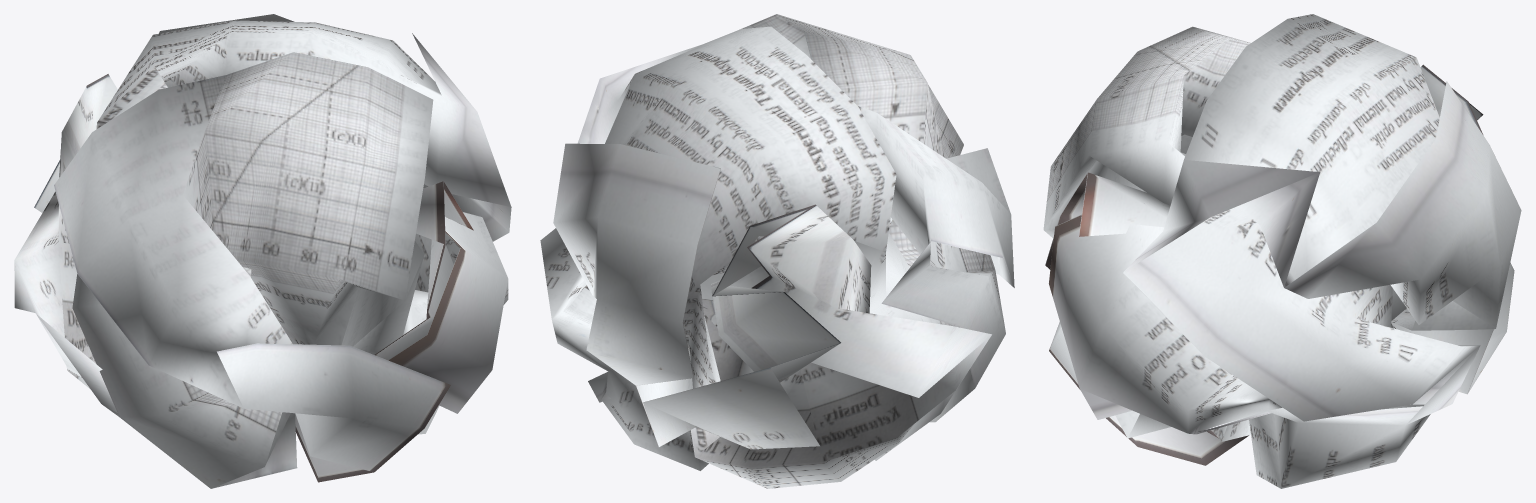
The model's file is crumpledPaper.fbx.
3 renders of one model, left to right at view 1: azimuth 30°, elevation 25°; view 2: azimuth 150°, elevation 25°; view 3: azimuth 270°, elevation 25°, orthographic. The views are drawn at different scales.
Visible parts, largest first — view 1: Plane; view 2: Plane; view 3: Plane.
Part boxes in pixels (x1,y1,x2,y2): Plane: (14, 14, 511, 488); Plane: (540, 14, 1014, 488); Plane: (1043, 14, 1521, 488).
Bounding box in the file's own units: 76.97 × 72.23 × 73.5.
